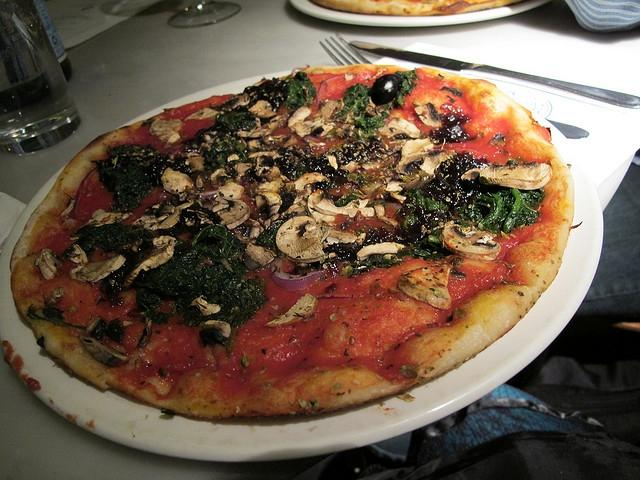mushroom: (122, 236, 176, 288), (276, 216, 334, 263), (461, 161, 553, 190), (398, 264, 453, 310), (396, 138, 457, 177), (67, 244, 126, 284), (99, 249, 138, 305), (439, 225, 501, 260), (212, 196, 250, 230), (378, 117, 421, 138), (160, 167, 193, 194), (150, 118, 184, 143), (313, 198, 359, 216), (255, 188, 282, 218), (249, 116, 282, 140), (294, 172, 328, 190), (288, 106, 312, 127), (171, 190, 194, 208), (133, 214, 169, 225), (233, 163, 253, 181), (308, 190, 324, 208), (254, 204, 270, 218)
